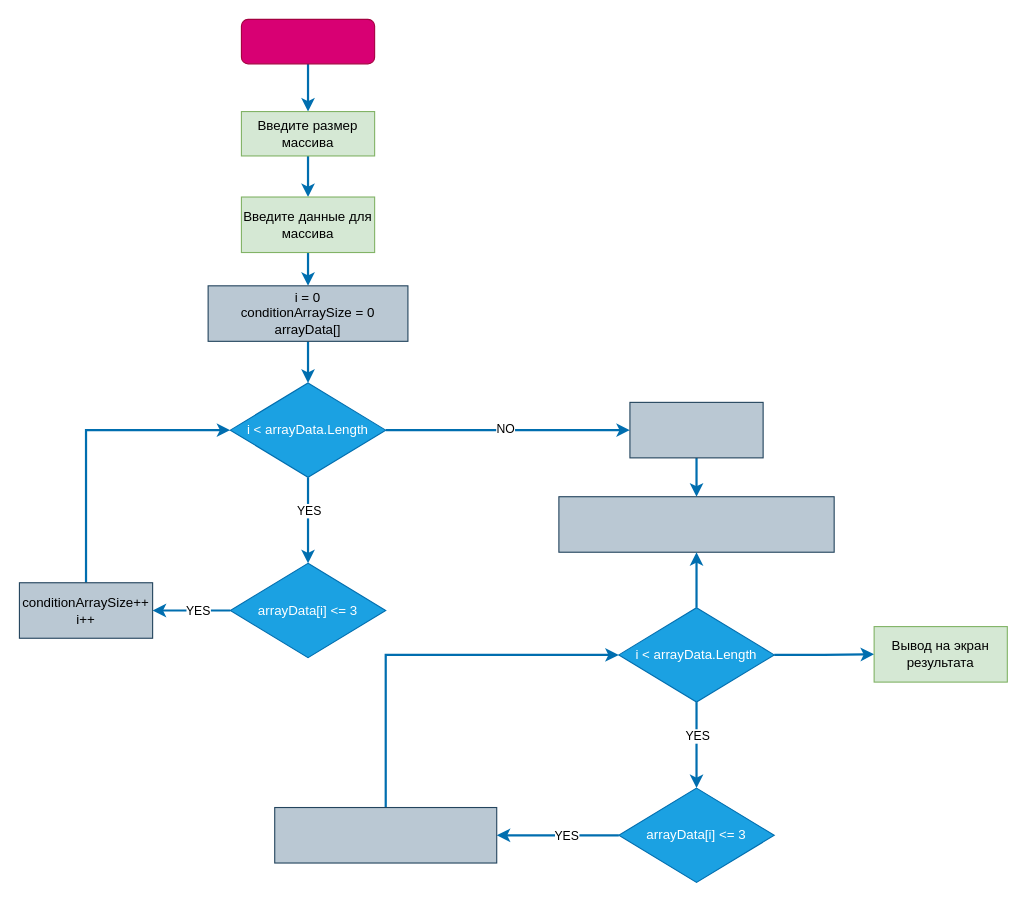
The diagram is 1027 pixels wide and 902 high, and some of its shapes have lost their labels. Here are the shapes that lost their labels. From the top down, the centre of each, then its label:
At (307,41): "Старт".
At (696,429): "conditionArraySize".
At (696,524): "arrayResult[sonditionArraySize] j=0".
At (385,834): "arrayResult[j] = arrayData[i] i++ j++".
